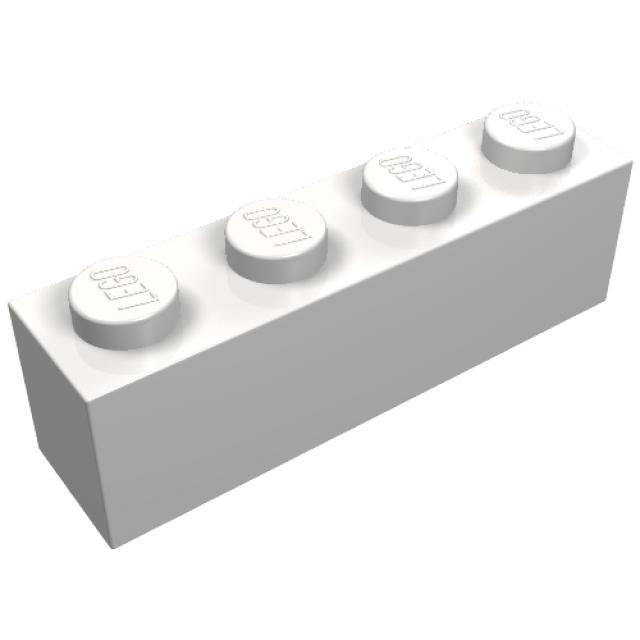White_Medium: (8, 96, 635, 552)
